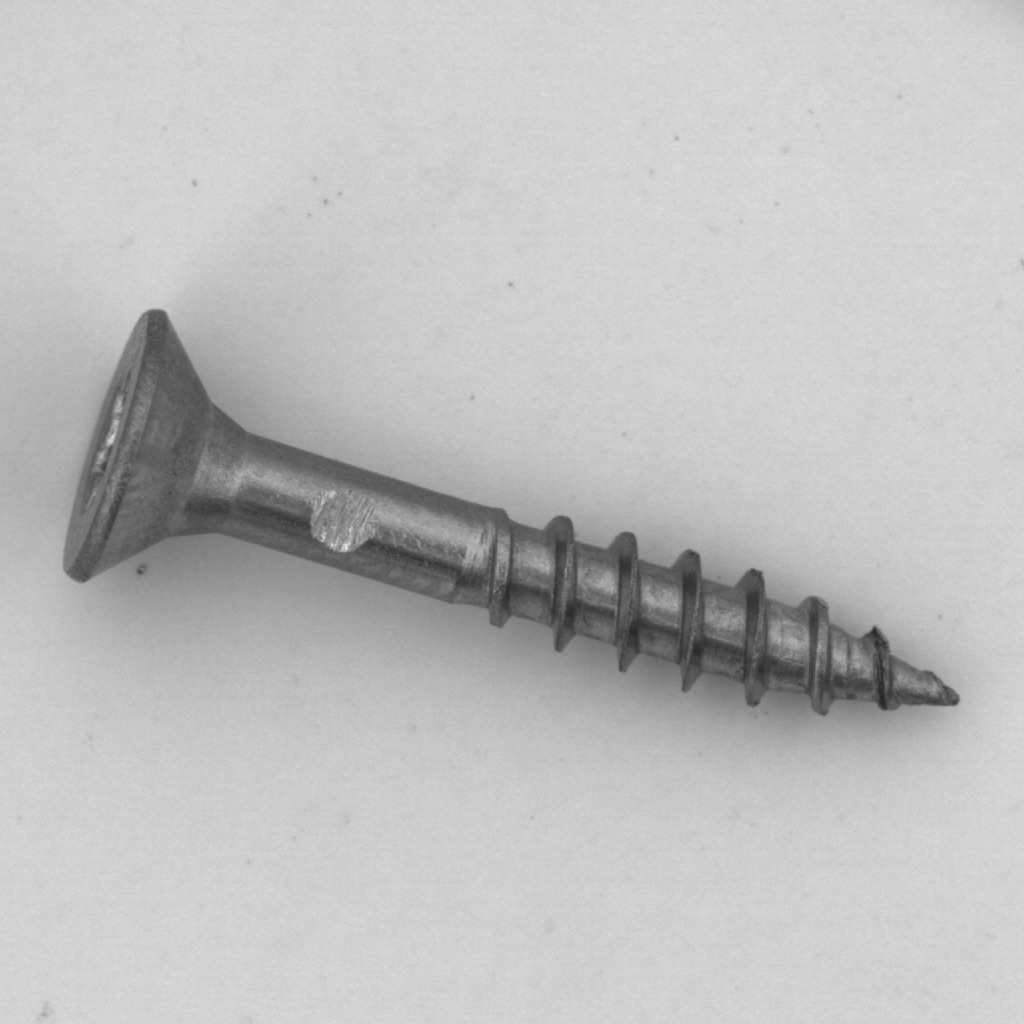scratch_neck: (249, 415, 458, 620)
